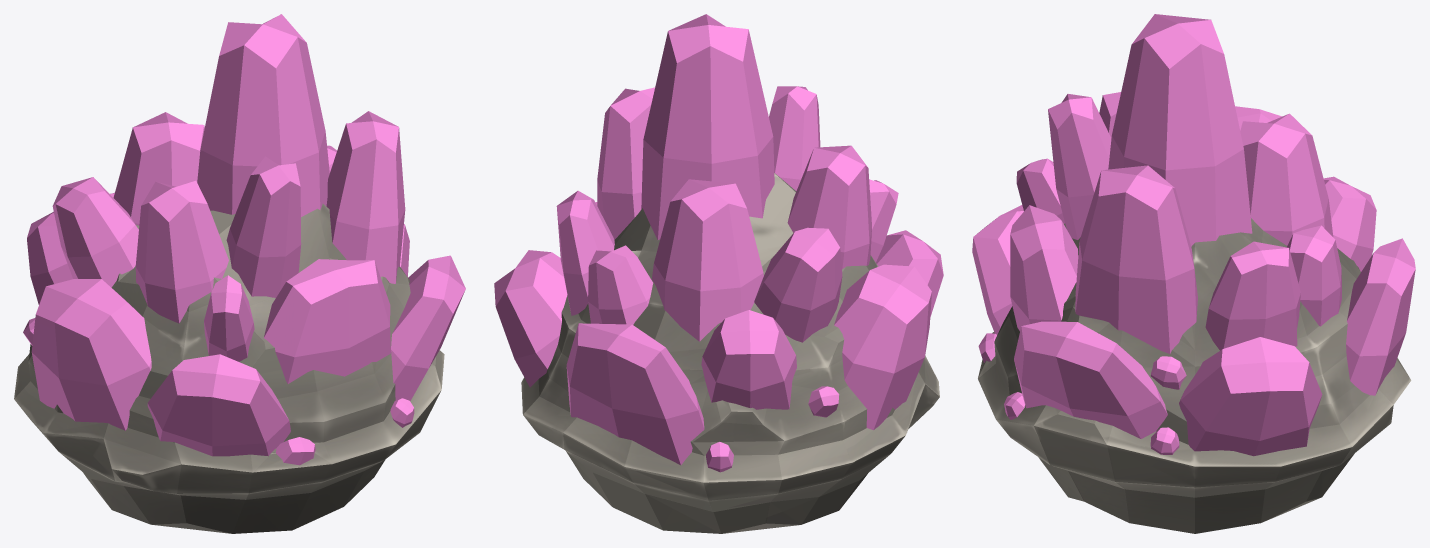
Rendered from 4mendiane.glb.
3 views of the same model, side by side, from view 1: azimuth 30°, elevation 25°; view 2: azimuth 150°, elevation 25°; view 3: azimuth 270°, elevation 25° (orthographic). The views are drawn at different scales.
Visible parts, largest first — view 1: Object_9.001; view 2: Object_9.001; view 3: Object_9.001.
Boxes of the visible parts, <box> form: Object_9.001: <box>14,14,465,533</box>; Object_9.001: <box>494,14,943,533</box>; Object_9.001: <box>972,14,1415,533</box>.
Bounding box in the file's own units: 0.7298 × 0.8263 × 0.7003.
2 materials, 1 textured.
